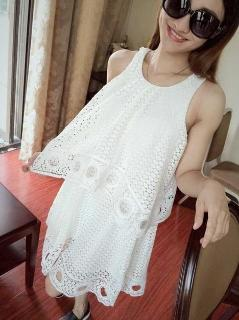skirt: (41, 156, 163, 307)
vest dress: (28, 46, 210, 238)
